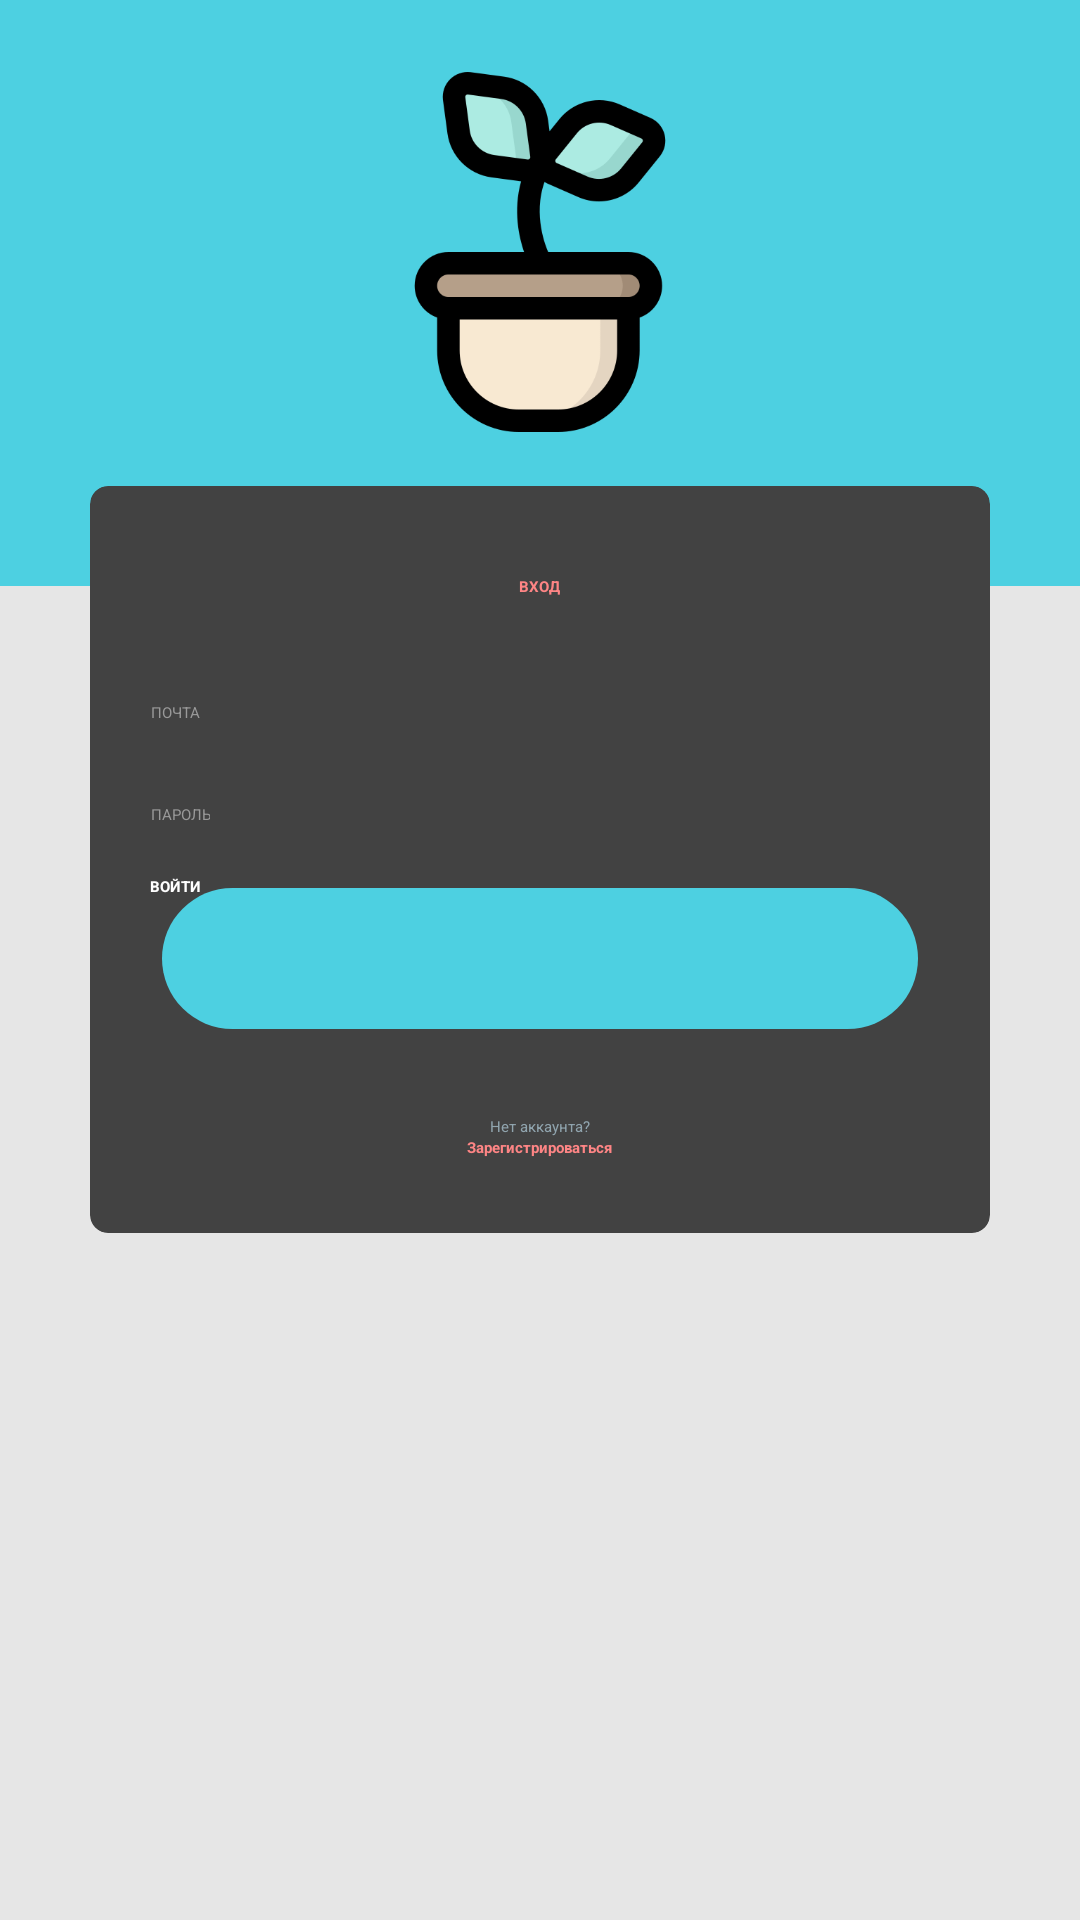

Point at icon controls on the screen. Image size 1080 × 1920, points as [x,y].
plant: [540,252]
